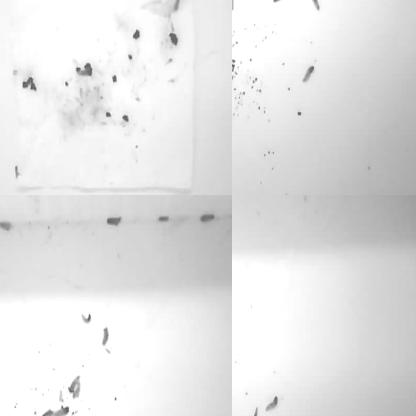PtecticusTenebrifer: (302, 64, 315, 85), (265, 395, 280, 412), (49, 405, 70, 416), (68, 374, 80, 393), (232, 315, 241, 339), (72, 379, 82, 398), (232, 322, 239, 347), (309, 0, 321, 12), (107, 217, 123, 226), (201, 214, 215, 224), (0, 219, 11, 231), (102, 325, 108, 345), (232, 285, 240, 300), (81, 313, 92, 323), (232, 315, 242, 326), (232, 56, 236, 82), (232, 5, 235, 37), (232, 406, 241, 416), (232, 38, 238, 52), (159, 215, 169, 223), (232, 380, 235, 405), (232, 320, 235, 344), (232, 356, 239, 366), (232, 0, 238, 10), (273, 195, 280, 203), (270, 0, 283, 4), (232, 0, 238, 8), (232, 333, 234, 355), (232, 0, 240, 5), (232, 195, 239, 200)
